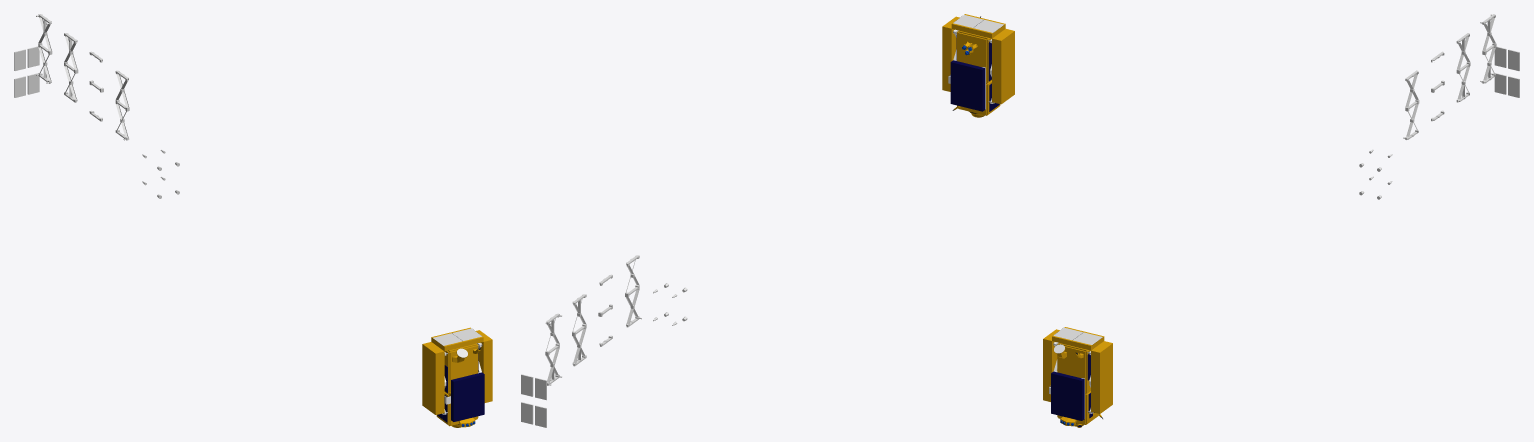
The model's file is corpus_16.glb.
3 views of the same model, side by side, from view 1: azimuth 30°, elevation 25°; view 2: azimuth 150°, elevation 25°; view 3: azimuth 330°, elevation 25° (orthographic). The views are drawn at different scales.
Parts seen in each view (by area): view 1: Куб.032, Left_2, Cube, Base_Antenna, Куб.001, Куб.007, Куб.003, Right_1; view 2: Куб.029, Left_2, Cube, Base_Antenna, Куб.001, Куб.007, Куб.003; view 3: Куб.032, Right_2, Cube, Base_Antenna, Куб.007, Куб.001, Куб.003.
Boxes of the visible parts, x1,y1,x2,y2 form: Куб.032: (453,374,484,421); Left_2: (422,343,439,414); Cube: (436,343,478,426); Base_Antenna: (431,327,483,351); Куб.001: (64,33,78,102); Куб.007: (38,14,52,83); Куб.003: (115,70,129,140); Right_1: (478,338,488,402); Куб.029: (950,62,983,111); Left_2: (996,30,1014,104); Cube: (957,30,1000,115); Base_Antenna: (951,14,1005,38); Куб.001: (572,294,586,366); Куб.007: (545,313,559,385); Куб.003: (625,255,639,327); Куб.032: (1051,373,1082,420); Right_2: (1095,342,1112,413); Cube: (1057,343,1098,424); Base_Antenna: (1052,327,1104,350); Куб.007: (1482,14,1496,83); Куб.001: (1456,33,1470,102); Куб.003: (1405,70,1419,139).
Bounding box in the file's own units: 2.56 × 4.57 × 34.55.
